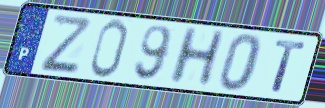0: (217, 31, 263, 93), (89, 17, 130, 81)
9: (133, 24, 173, 82)
H: (165, 25, 228, 87)
T: (270, 38, 308, 95)
Z: (39, 12, 92, 74)
